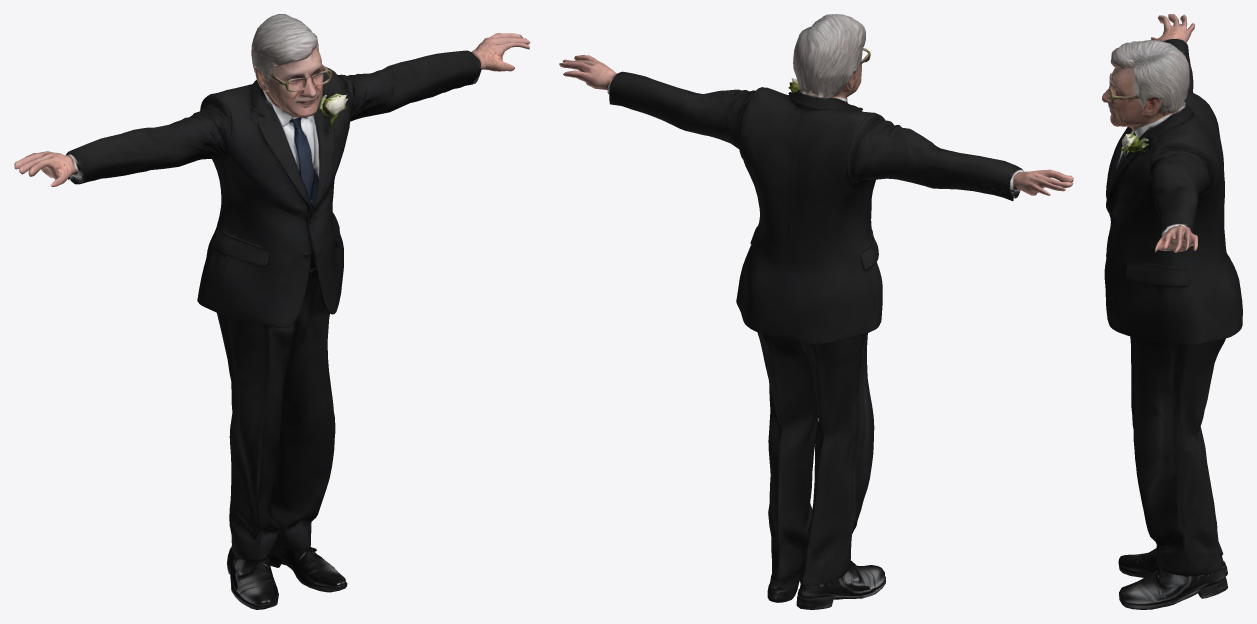
The model's file is Donald_tux.fbx.
3 views of the same model, side by side, from view 1: azimuth 30°, elevation 25°; view 2: azimuth 150°, elevation 25°; view 3: azimuth 270°, elevation 25° (orthographic). The views are drawn at different scales.
Visible parts, largest first — view 1: tripo_node_00fa381e.005; view 2: tripo_node_00fa381e.005; view 3: tripo_node_00fa381e.005.
Boxes of the visible parts, x1,y1,x2,y2 form: tripo_node_00fa381e.005: (14, 14, 530, 609); tripo_node_00fa381e.005: (559, 14, 1073, 609); tripo_node_00fa381e.005: (1102, 14, 1242, 609).
Bounding box in the file's own units: 87.19 × 21.74 × 93.12.
Materials: 1 (1 with a texture image).
